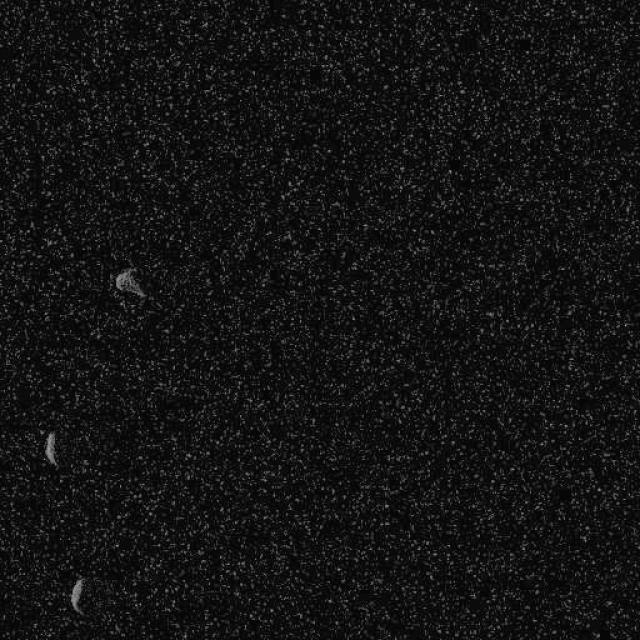D2: (112, 266, 148, 302), (69, 576, 86, 615), (42, 428, 58, 468)
